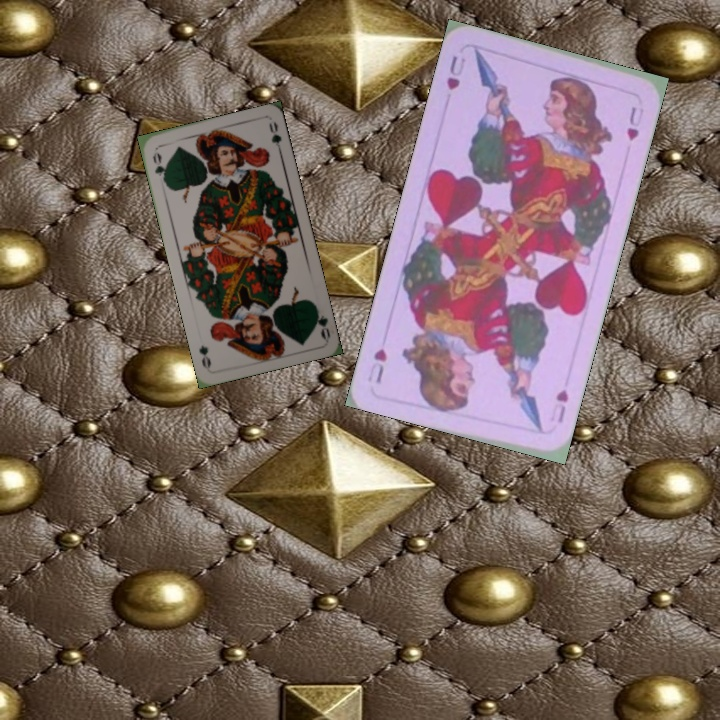GO: (311, 301, 333, 341), (149, 148, 169, 186)
HU: (442, 51, 468, 93), (546, 385, 571, 426)
